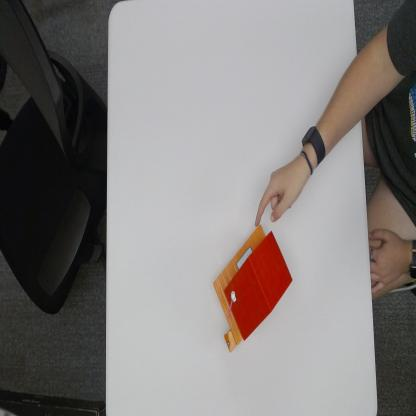Arm: (324, 31, 398, 144)
Hand: (256, 148, 317, 216)
House: (216, 224, 294, 348)
